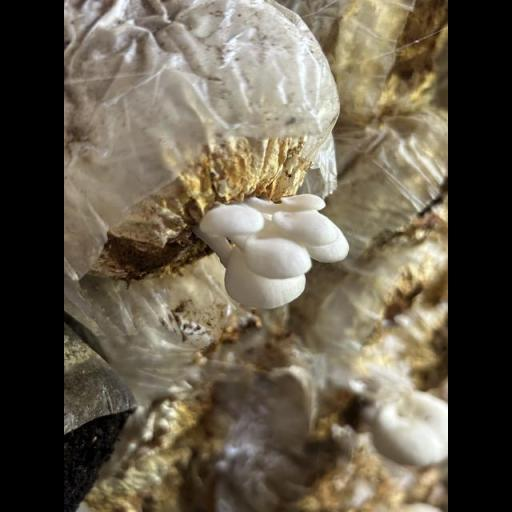White Oyster Mushroom: (196, 191, 350, 308), (369, 391, 448, 466)
